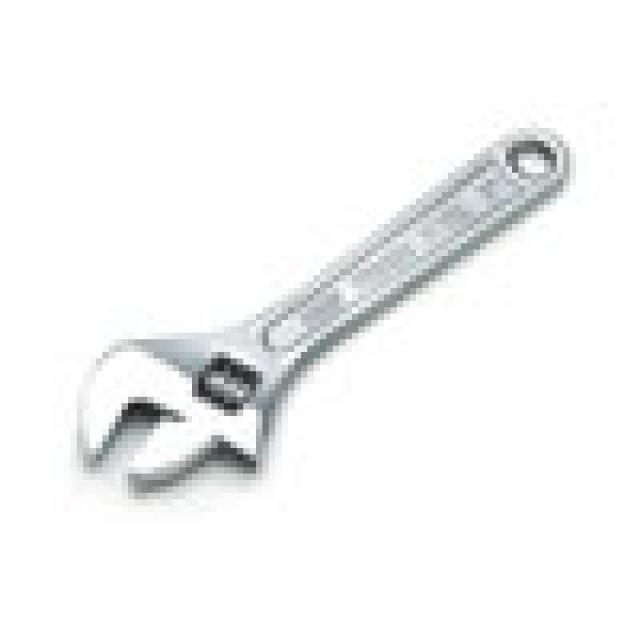wrench: (80, 131, 568, 489)
